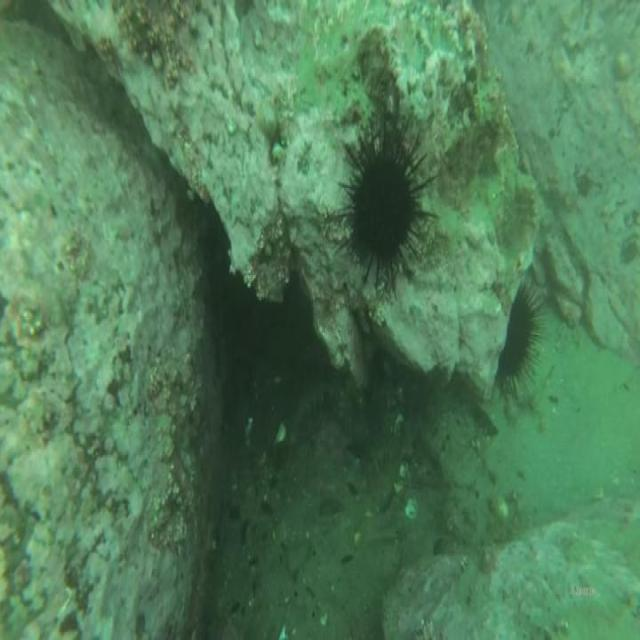echinus: (350, 144, 420, 265), (500, 294, 536, 384)
